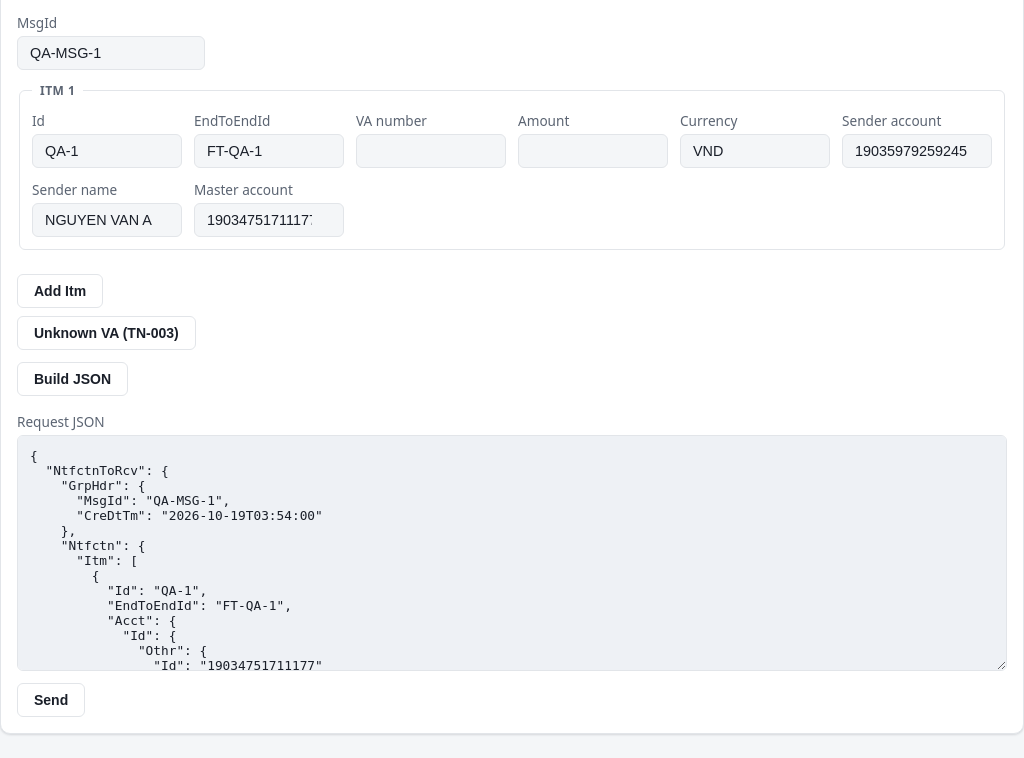
Scenario: RawCallbackPanel › reports invalid JSON and sends nothing
The width and height of the screenshot is (1024, 758).
(page scrolled)
Replace the text in the text box labelled "Request JSON" with "not json" at (512, 553), box [17, 435, 1007, 671]
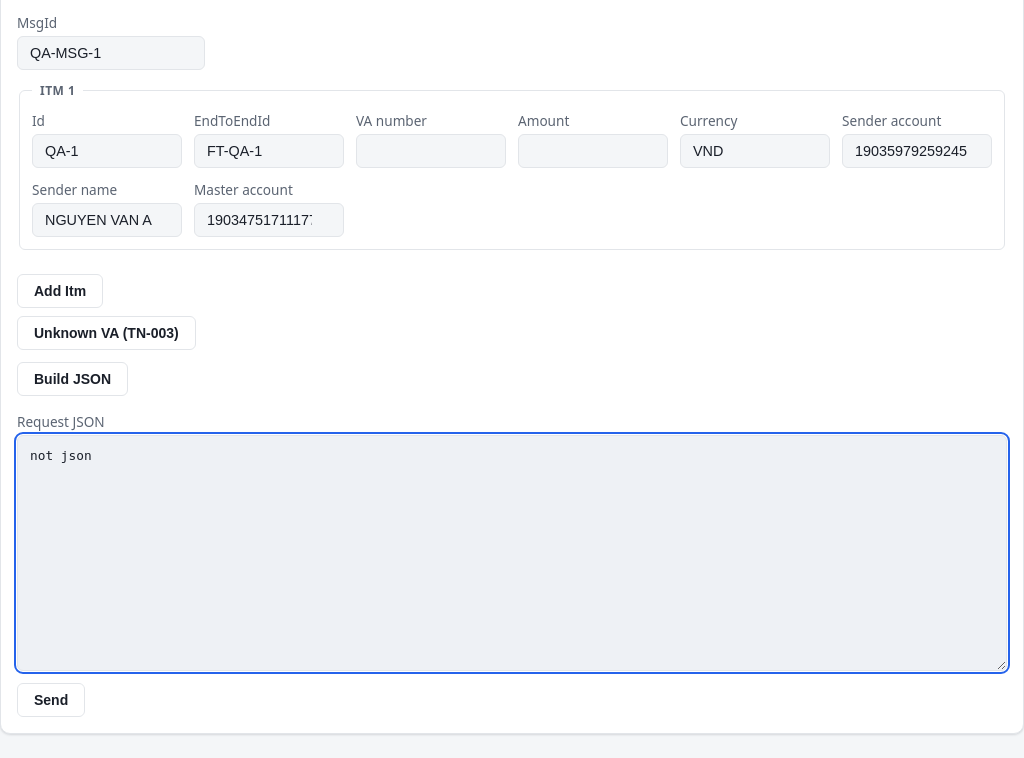
Click the button "Send" at (51, 700), box [17, 683, 85, 717]
(page scrolled)
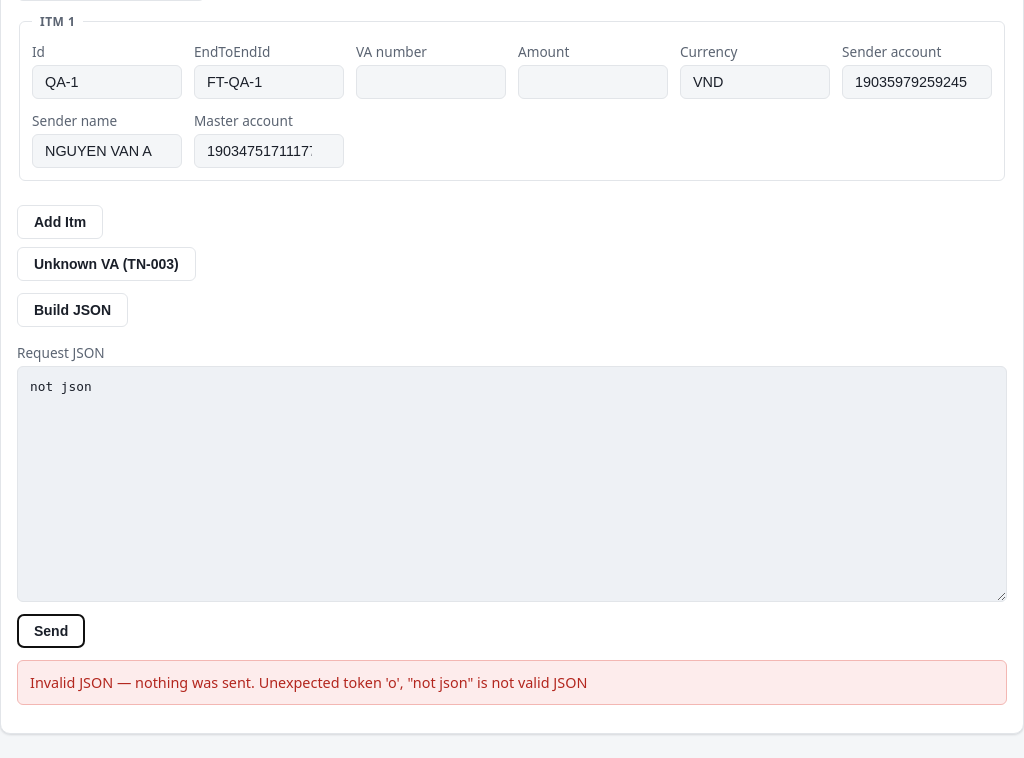
expect the message shows "JSON": met, box [30, 673, 587, 692]
